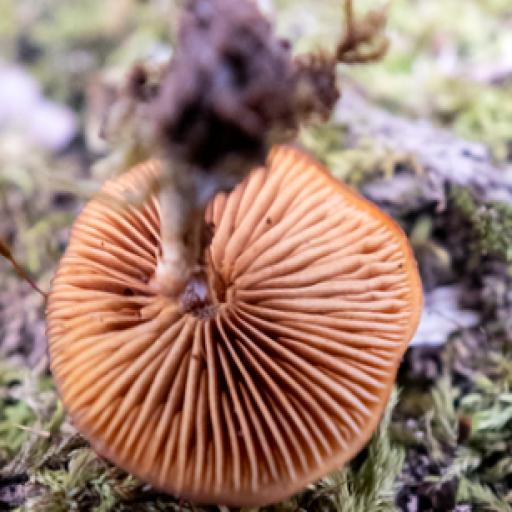Funeral Bell: (35, 126, 422, 504)
